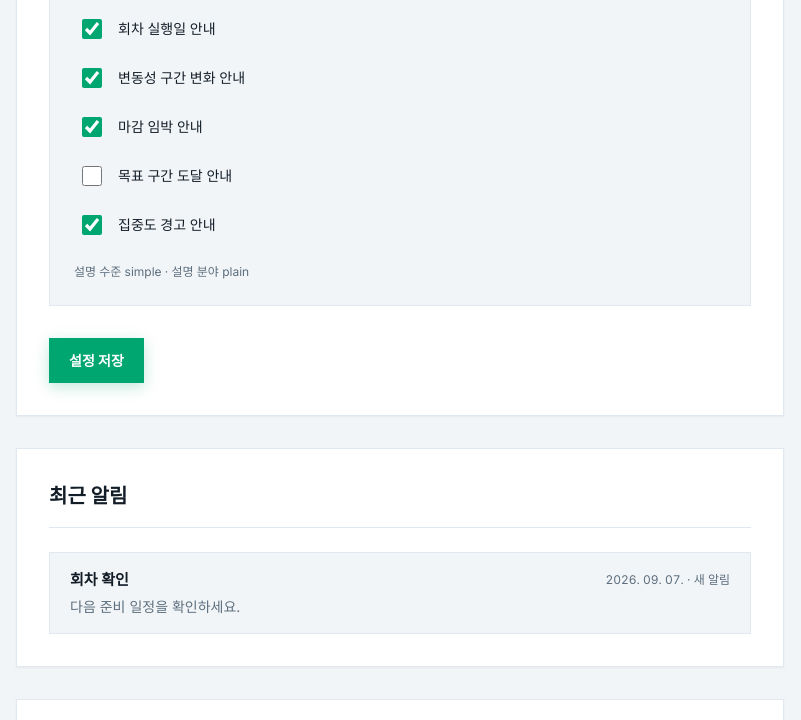
Scenario: MyPageScreen › 설정 저장 오류를 표시한다
(page scrolled)
Click the button "설정 저장" at (96, 361), box [49,338,144,383]
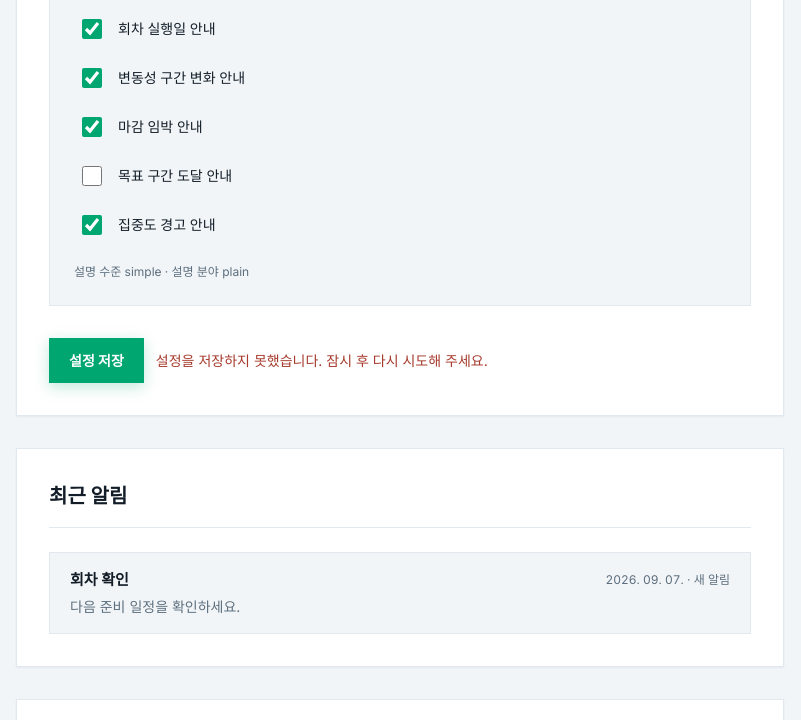
Result: the message shows "설정을 저장하지 못했습니다" at [156,352,488,369]
